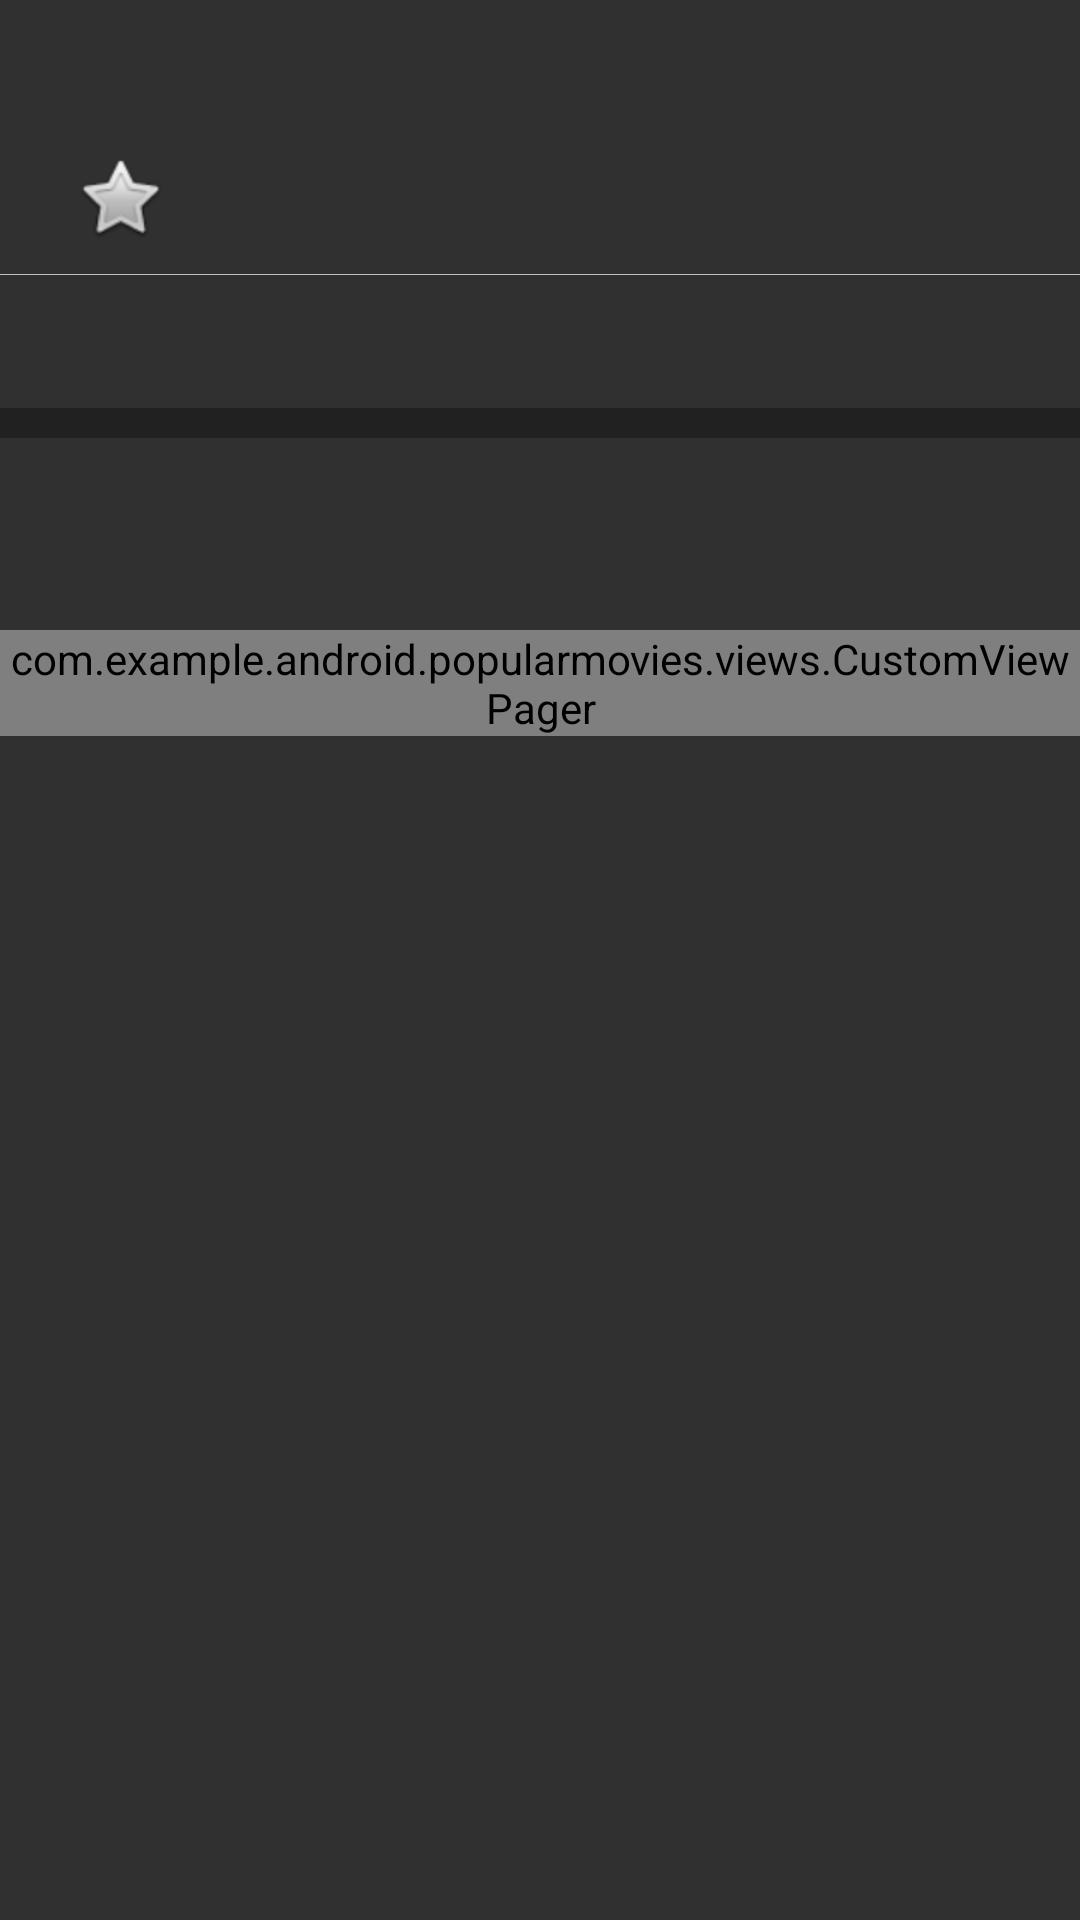

Named icons in this screenshot (1080px×1920px) and their centers, [x,y]:
star: [121,196]
